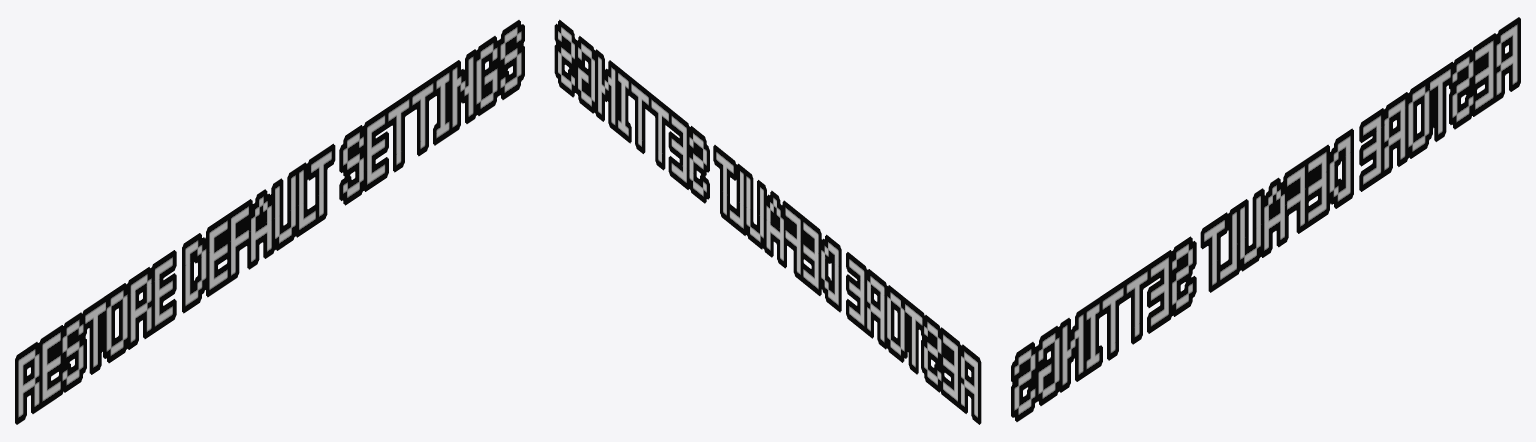
3 renders of one model, left to right at view 1: azimuth 90°, elevation 25°; view 2: azimuth 150°, elevation 25°; view 3: azimuth 270°, elevation 25°, orthographic. The views are drawn at different scales.
Visible parts, largest first — view 1: Joint_0_Object_0; view 2: Joint_0_Object_0; view 3: Joint_0_Object_0.
Boxes of the visible parts, x1=… form: Joint_0_Object_0: x1=15, y1=20, x2=524, y2=424; Joint_0_Object_0: x1=554, y1=19, x2=981, y2=424; Joint_0_Object_0: x1=1011, y1=17, x2=1520, y2=421.
Bounding box in the file's own units: 325 × 32 × 205.
1 material, 1 textured.
